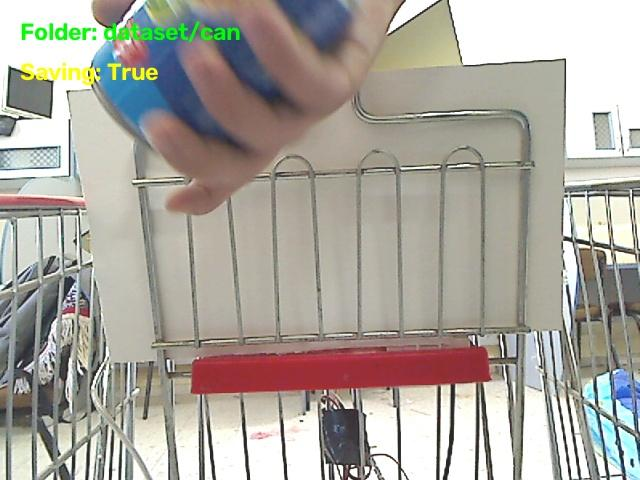can: (92, 0, 285, 143)
